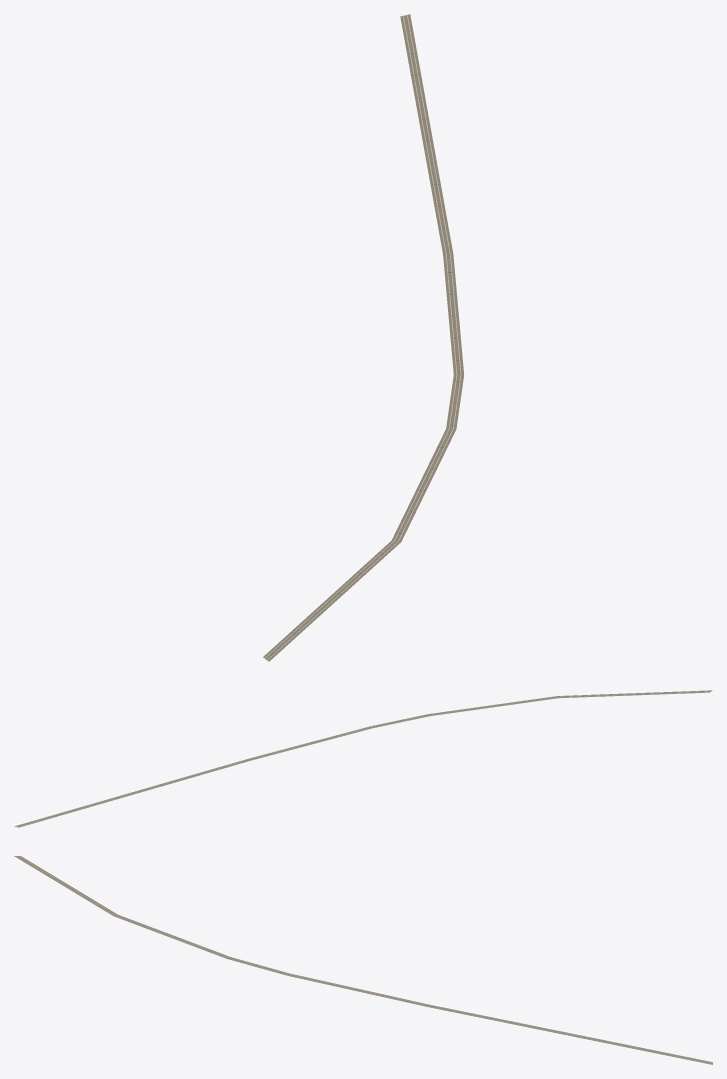
3 views of the same model, one above another, from view 1: azimuth 30°, elevation 25°; view 2: azimuth 150°, elevation 25°; view 3: azimuth 270°, elevation 25° (orthographic). The views are drawn at different scales.
Parts seen in each view (by area): view 1: rail; view 2: rail; view 3: rail.
Part boxes in pixels (x1=…): rail: x1=263, y1=14, x2=463, y2=661; rail: x1=14, y1=690, x2=712, y2=827; rail: x1=14, y1=856, x2=712, y2=1064.
Size of the model in its own units: 308 by 0.04 by 436.
